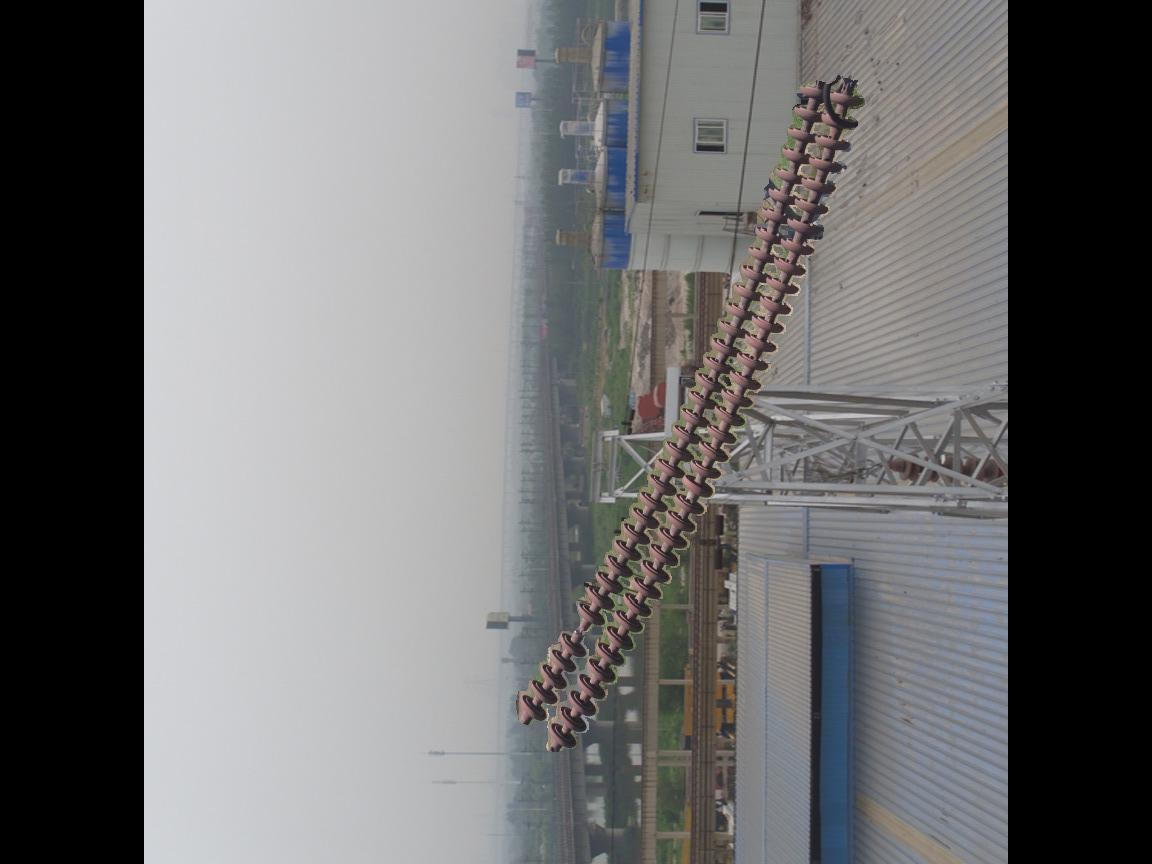insulator: (514, 76, 864, 759), (878, 447, 1004, 491)
insulator_stringdrop: (555, 596, 607, 661)
